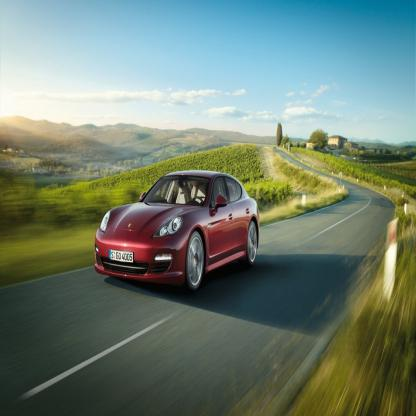Car: (94, 170, 260, 291)
